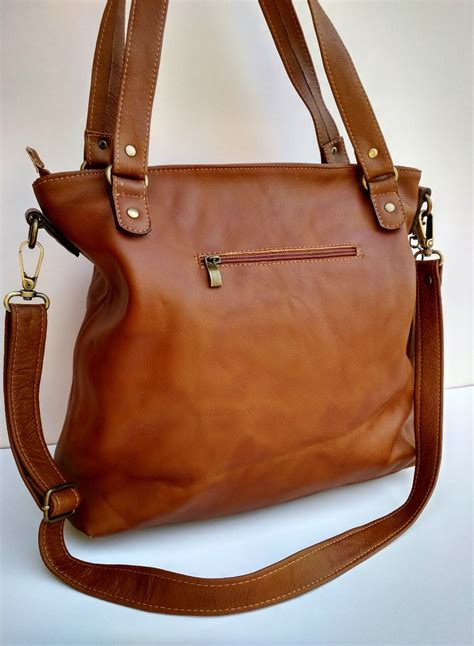cuero: (1, 2, 448, 620)
